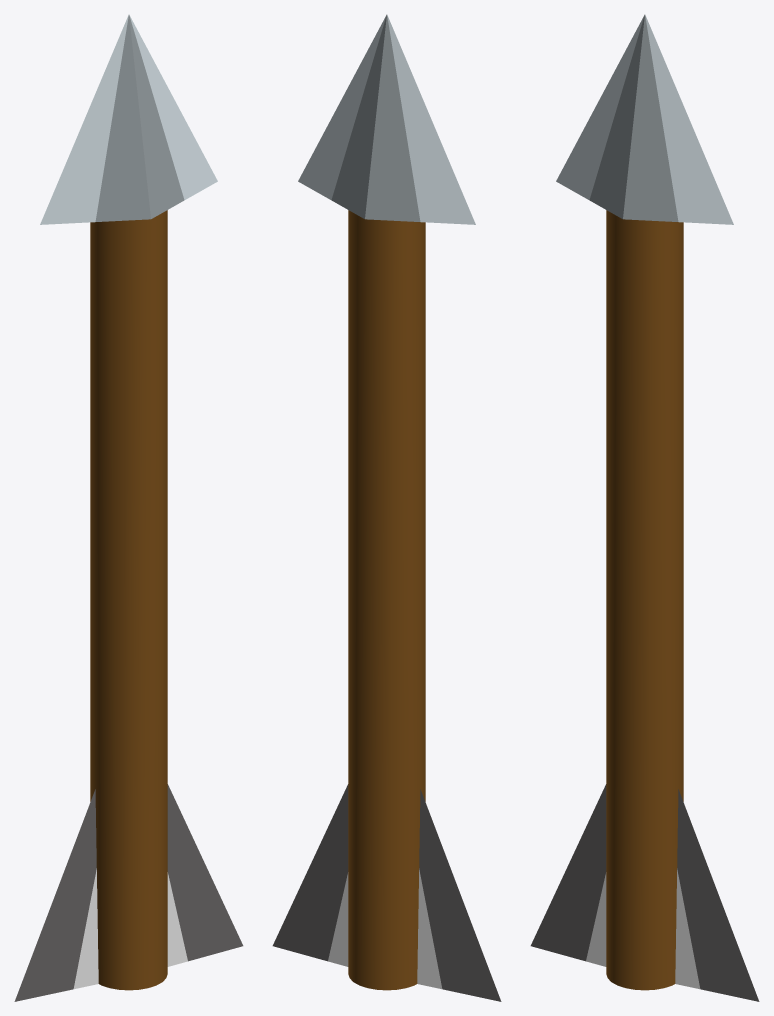
File: arrow asset.model.fbx
3 renders of one model, left to right at view 1: azimuth 30°, elevation 25°; view 2: azimuth 150°, elevation 25°; view 3: azimuth 330°, elevation 25°, orthographic.
Visible parts, largest first — view 1: cylinder_full_1, blade_dual_top_2, blade_dual_top_3; view 2: cylinder_full_1, blade_dual_top_2, blade_dual_top_3; view 3: cylinder_full_1, blade_dual_top_2, blade_dual_top_3.
Boxes of the visible parts, <box> form: cylinder_full_1: <box>90,210,167,990</box>; blade_dual_top_2: <box>40,14,217,224</box>; blade_dual_top_3: <box>14,784,243,1001</box>; cylinder_full_1: <box>348,210,425,990</box>; blade_dual_top_2: <box>298,14,475,224</box>; blade_dual_top_3: <box>272,784,501,1001</box>; cylinder_full_1: <box>606,210,683,990</box>; blade_dual_top_2: <box>556,14,733,224</box>; blade_dual_top_3: <box>530,784,759,1001</box>.
Bounding box in the file's own units: 3.42 × 13.7 × 1.14.
